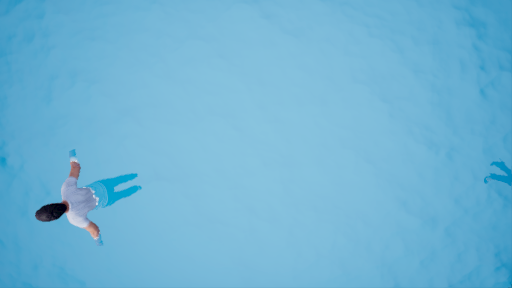person: (29, 150, 146, 245)
